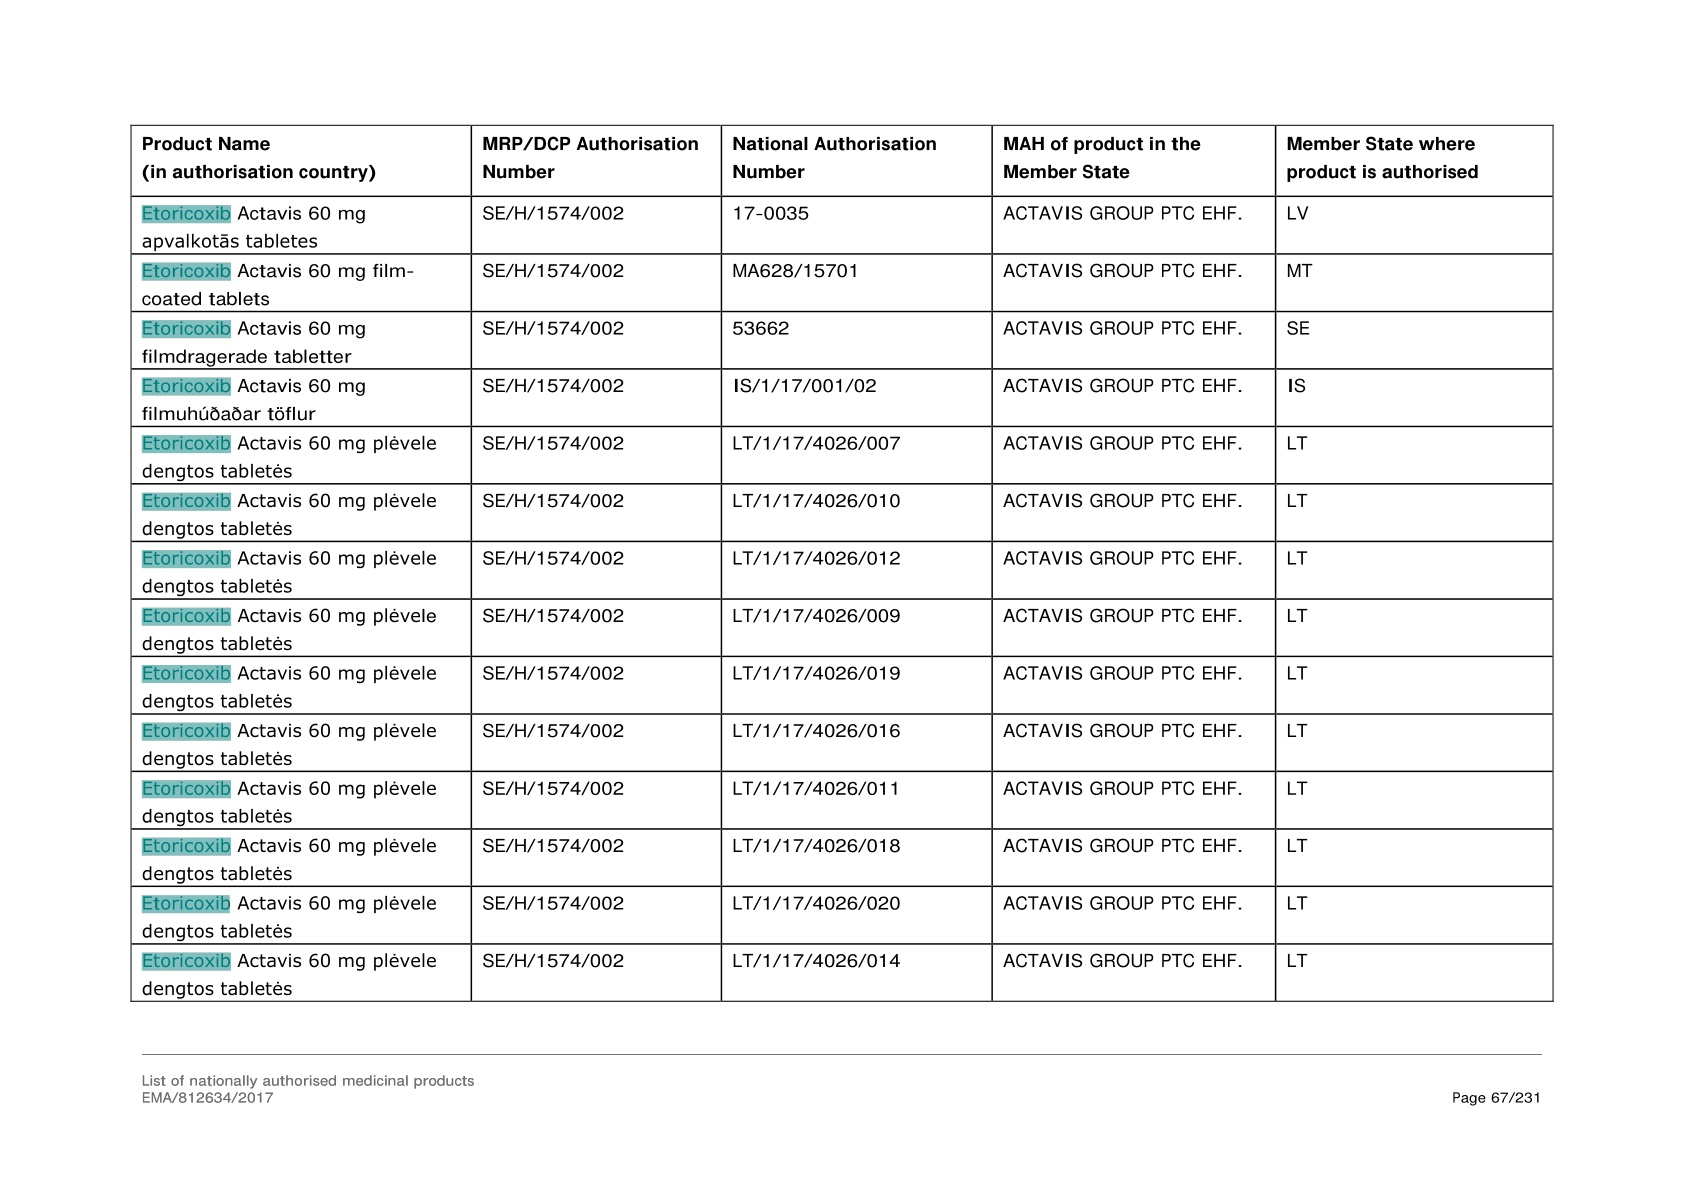full_lined: (130, 122, 1554, 1002)
